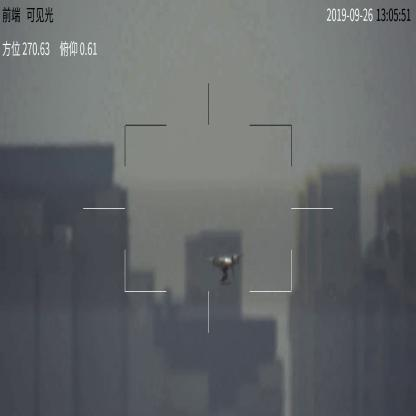uav: (204, 251, 244, 285)
